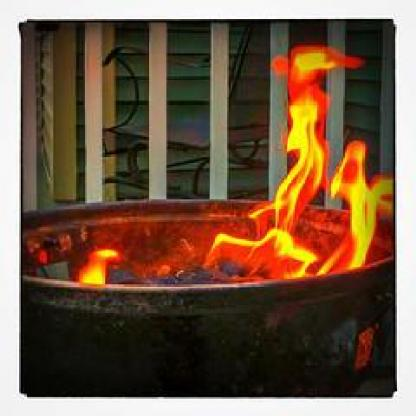fire: (36, 23, 390, 319)
